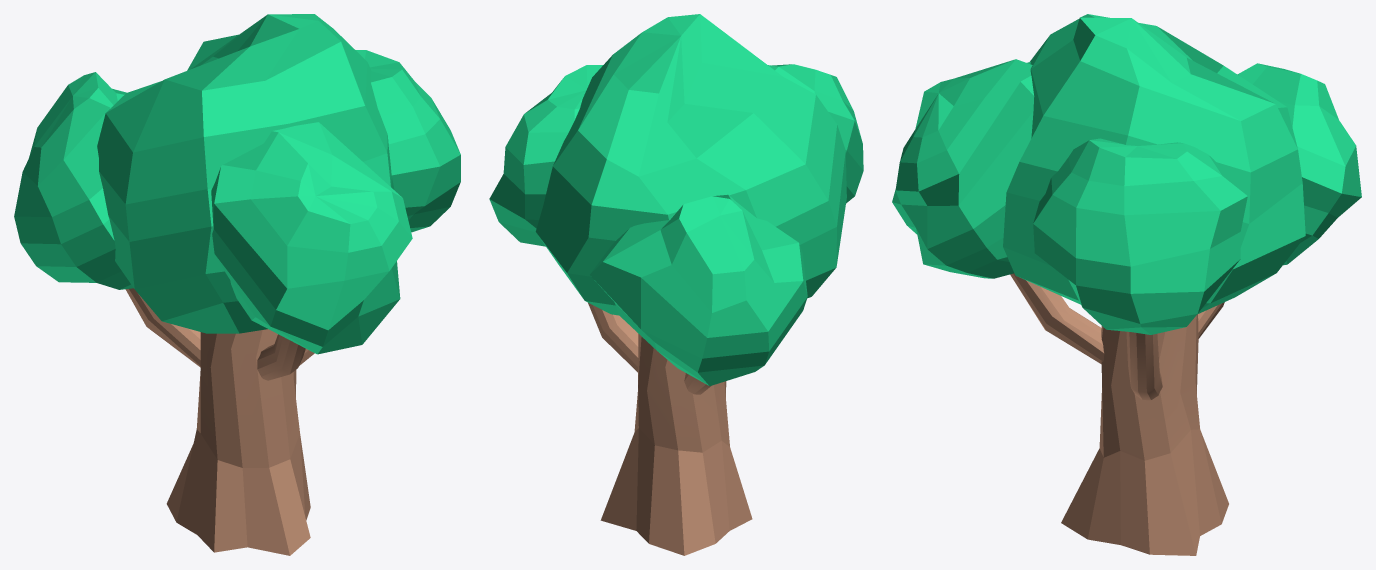
File: Tree_one.fbx
3 views of the same model, side by side, from view 1: azimuth 30°, elevation 25°; view 2: azimuth 150°, elevation 25°; view 3: azimuth 270°, elevation 25° (orthographic). The views are drawn at different scales.
Parts seen in each view (by area): view 1: Tree; view 2: Tree; view 3: Tree.
Boxes of the visible parts, bbox=[...] form: Tree: bbox=[14, 14, 460, 555]; Tree: bbox=[489, 14, 863, 555]; Tree: bbox=[892, 14, 1361, 555].
Bounding box in the file's own units: 1.47 × 2.04 × 1.68.
